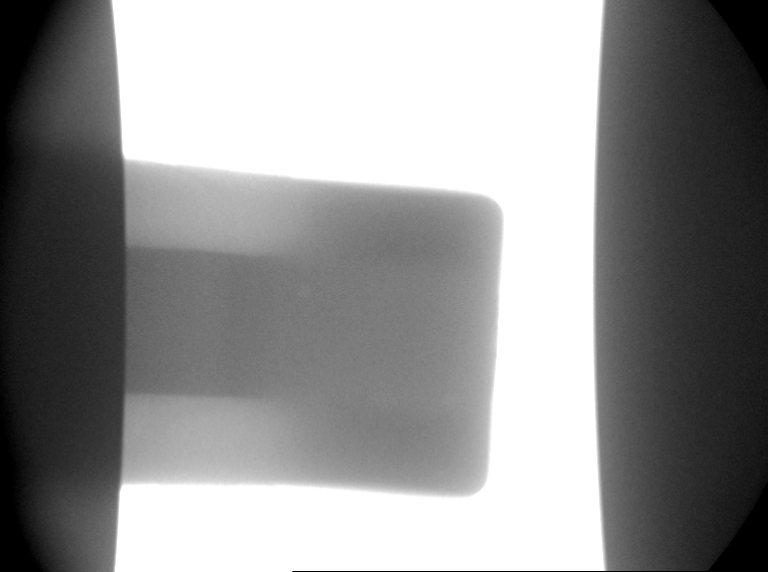defect: (436, 388, 474, 413)
